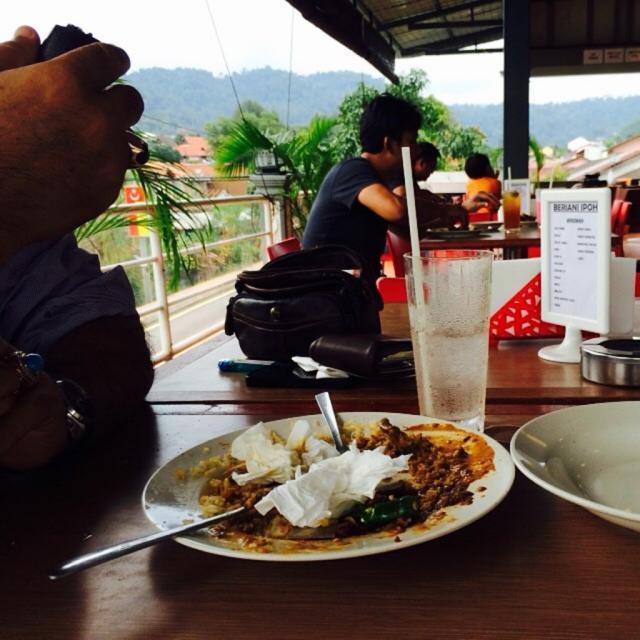non-organic waste: (142, 411, 517, 581)
